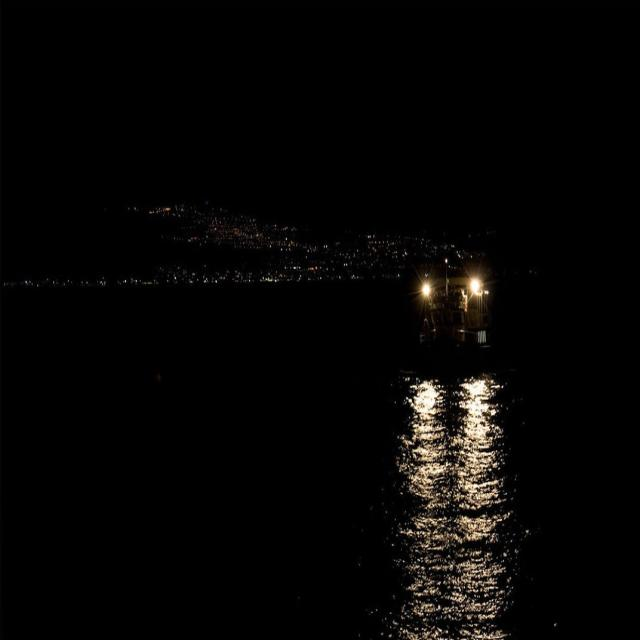Boat: (394, 231, 508, 377)
